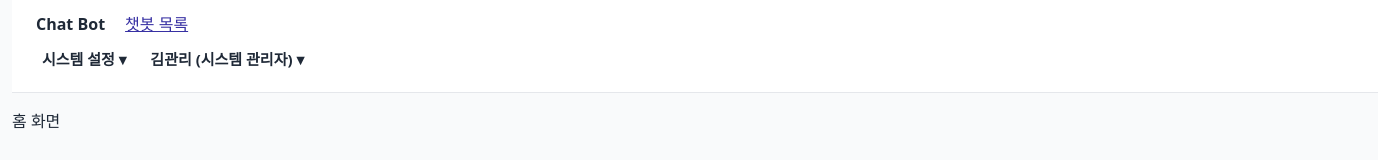
TopBar — AC-3-8 저장 안 된 변경사항 가드 › 등록된 가드가 없으면 "챗봇 목록" 클릭 시 정상적으로 이동한다
Click the link "챗봇 목록".
click(157, 24)  # box [125,12,188,36]
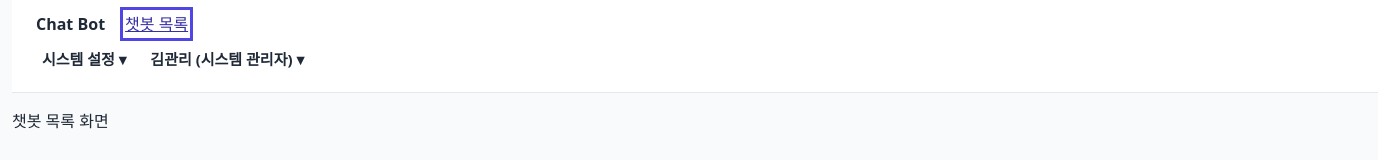
Expected: the text "챗봇 목록 화면" is shown, [12,110,109,132]
